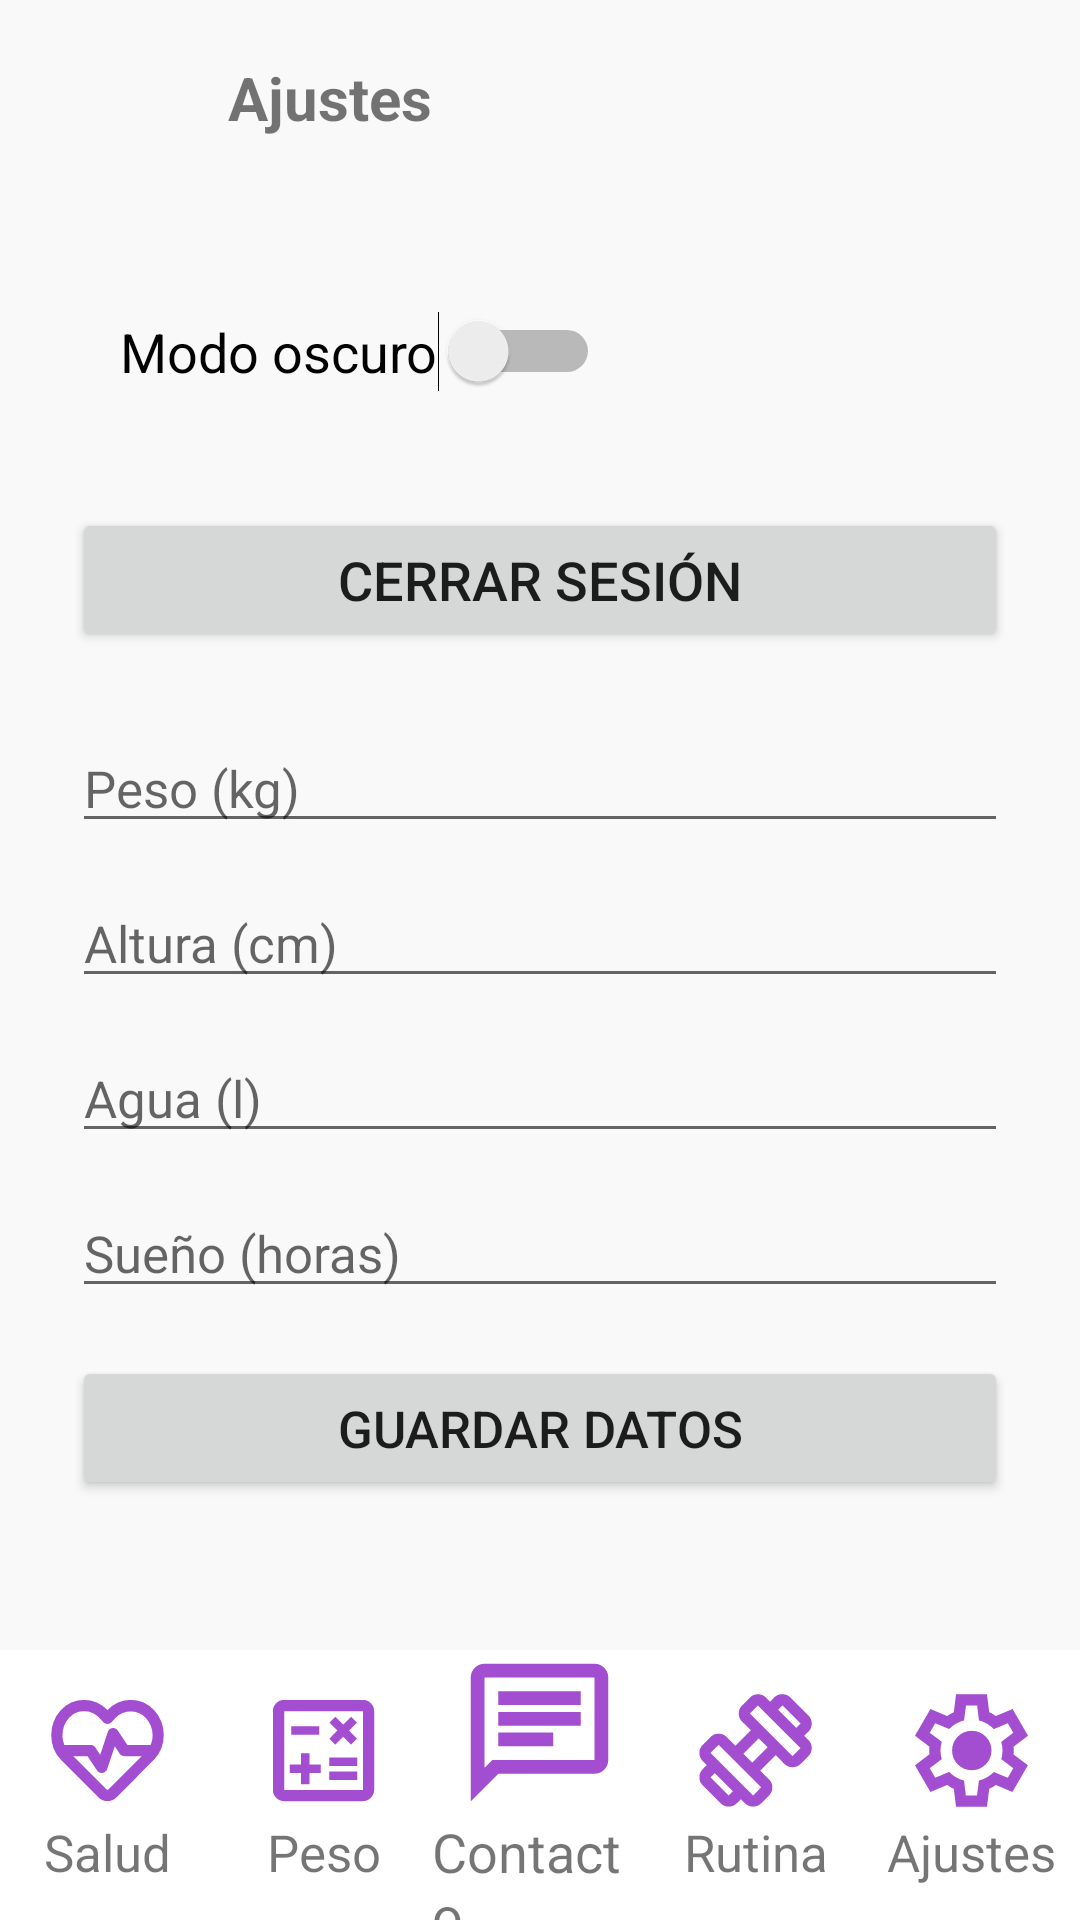

Where icons sit on this 1080w x 1920h app screen, as region(x1, y1, x2, y2):
calculate: region(273, 1700, 375, 1802)
chat: region(470, 1663, 609, 1801)
ecg heart: region(51, 1700, 164, 1801)
exercise: region(699, 1694, 812, 1807)
